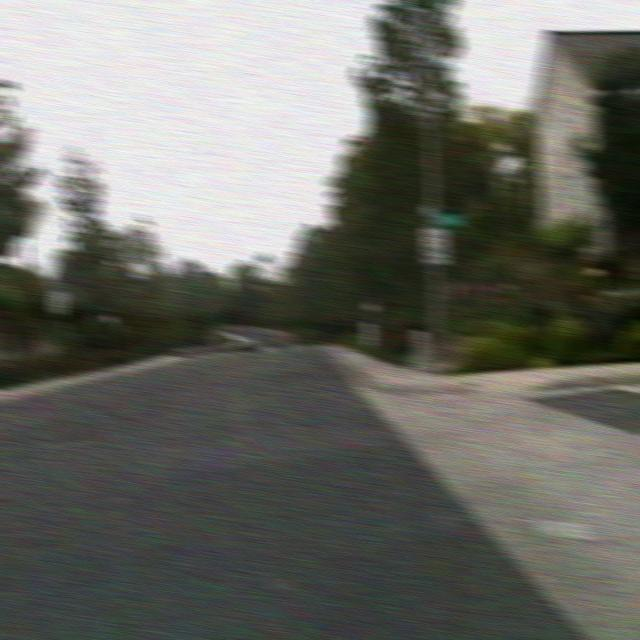speedLimit25: (420, 225, 450, 264)
